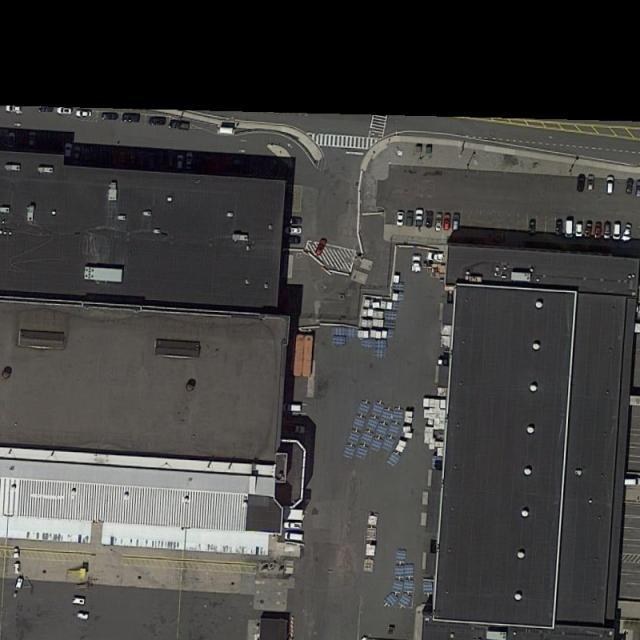vehicle: (314, 238, 328, 255), (622, 223, 633, 243), (575, 174, 586, 193), (415, 208, 425, 228), (427, 253, 448, 262), (170, 121, 190, 130), (622, 478, 640, 488), (434, 213, 443, 233), (122, 113, 141, 122), (584, 221, 594, 238), (612, 222, 622, 239), (282, 404, 303, 412), (566, 218, 574, 239), (288, 426, 306, 435), (284, 532, 304, 540), (606, 176, 614, 196), (625, 179, 635, 194), (283, 236, 301, 244), (75, 110, 93, 118), (586, 176, 595, 192), (574, 222, 583, 238), (595, 222, 603, 240), (443, 214, 451, 232), (424, 213, 434, 227), (555, 219, 563, 236), (452, 214, 460, 231), (406, 211, 414, 228), (284, 522, 303, 529), (288, 218, 304, 226), (150, 118, 166, 126), (57, 107, 73, 115), (398, 211, 406, 226), (286, 227, 302, 234), (605, 222, 611, 239), (103, 114, 119, 120), (629, 306, 640, 314), (635, 181, 640, 198), (529, 221, 535, 235)
